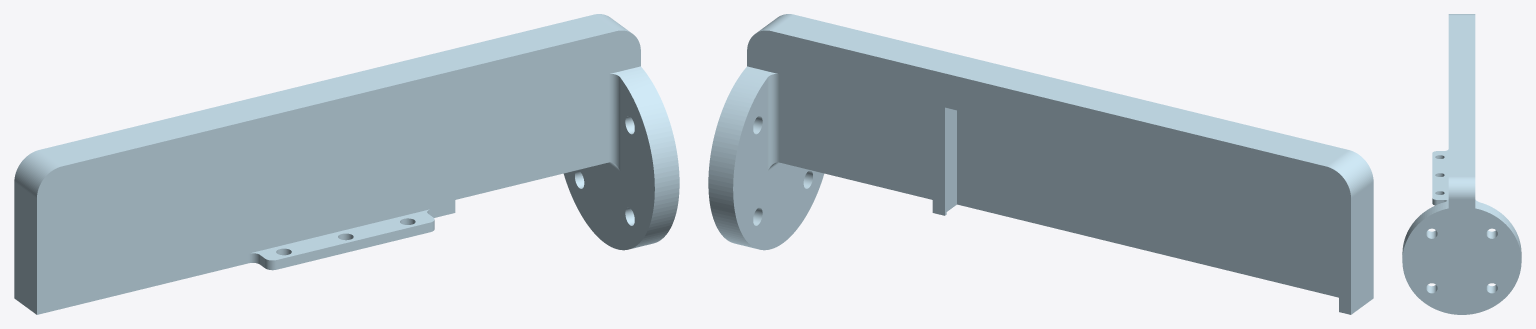
File: Support3D.glb
3 renders of one model, left to right at view 1: azimuth 30°, elevation 25°; view 2: azimuth 150°, elevation 25°; view 3: azimuth 270°, elevation 25°, orthographic. The views are drawn at different scales.
Visible parts, largest first — view 1: Node1; view 2: Node1; view 3: Node1.
Part boxes in pixels (<box>): Node1: <box>14,14,679,314</box>; Node1: <box>708,14,1373,314</box>; Node1: <box>1402,14,1521,314</box>.
Bounding box in the file's own units: 244 × 84.99 × 70.
